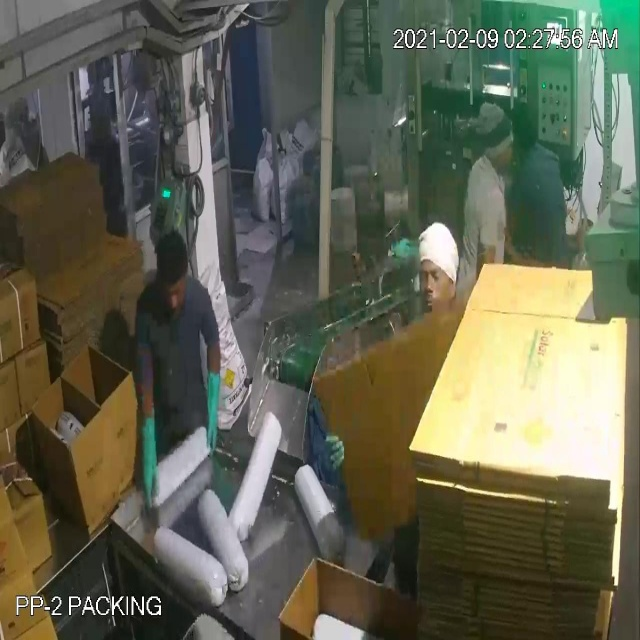Guantes: (121, 388, 172, 529), (190, 362, 229, 463)
